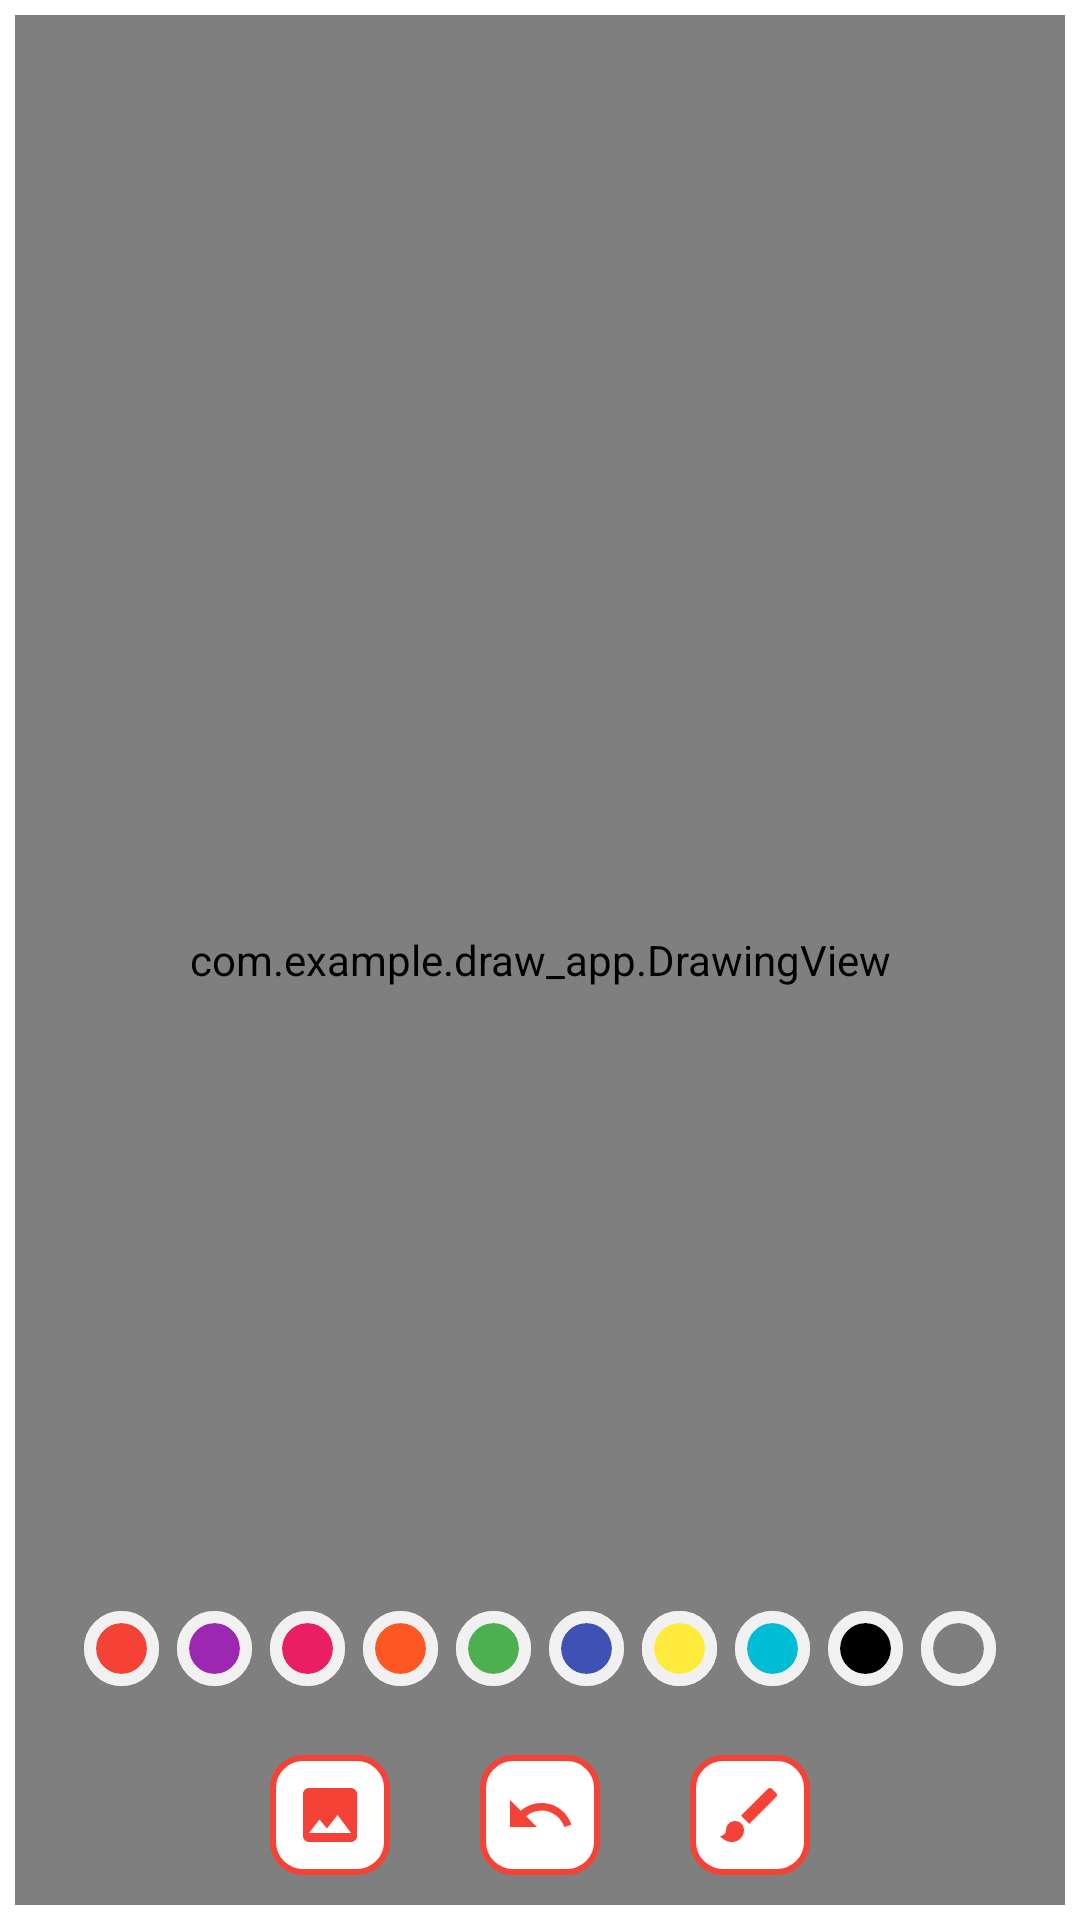

Where icons sit on this 1080 x 1920 app screen, as (x1, y1, x2, y2):
brush: (690, 1755, 810, 1875)
undo: (480, 1755, 600, 1875)
